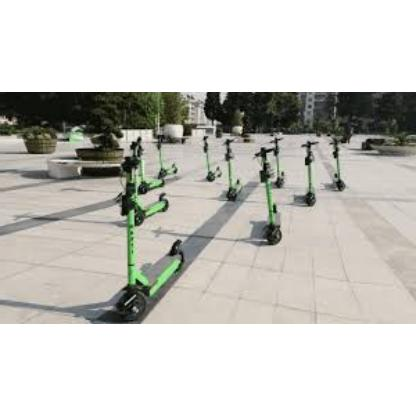bike: (253, 136, 285, 246), (300, 141, 319, 207)
